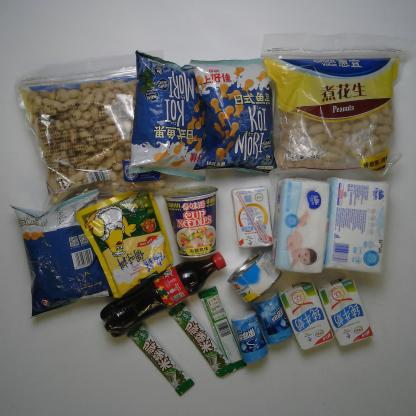Canned Food: (228, 250, 283, 304)
Chocolate: (168, 300, 235, 379), (126, 322, 196, 396), (197, 285, 247, 372)
Dried Food: (12, 48, 176, 216), (259, 31, 416, 187)
Drink: (99, 250, 227, 338)
Gum: (252, 292, 293, 345), (231, 309, 269, 364)
Instant Noodles: (163, 184, 220, 259)
Milk: (316, 274, 374, 348), (278, 278, 335, 350), (231, 184, 275, 250)
Puffed Food: (10, 186, 113, 321), (126, 49, 208, 182), (188, 57, 277, 174)
Seasoner: (74, 188, 174, 300)
Tissue: (323, 176, 392, 274), (271, 175, 332, 275)
